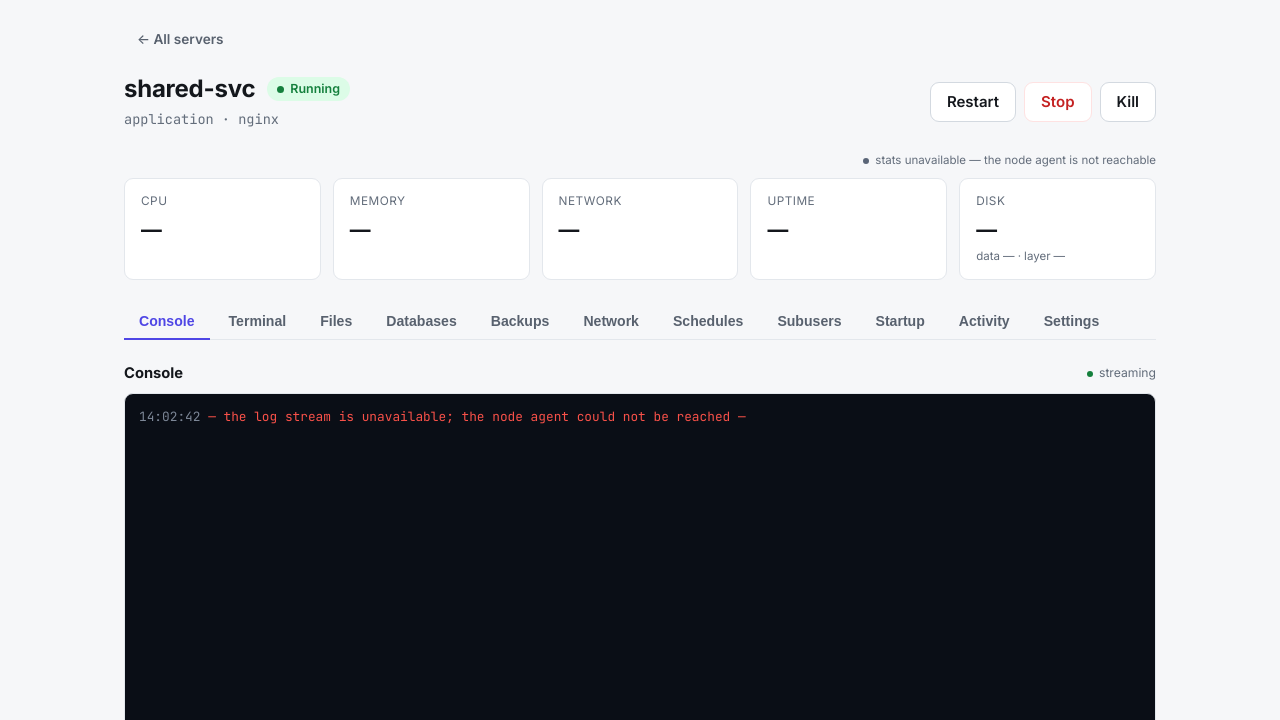
Test: ServerDetail Network tab › lists the server's own port mappings
Click the button "network": (611,322) [568, 304, 654, 340]
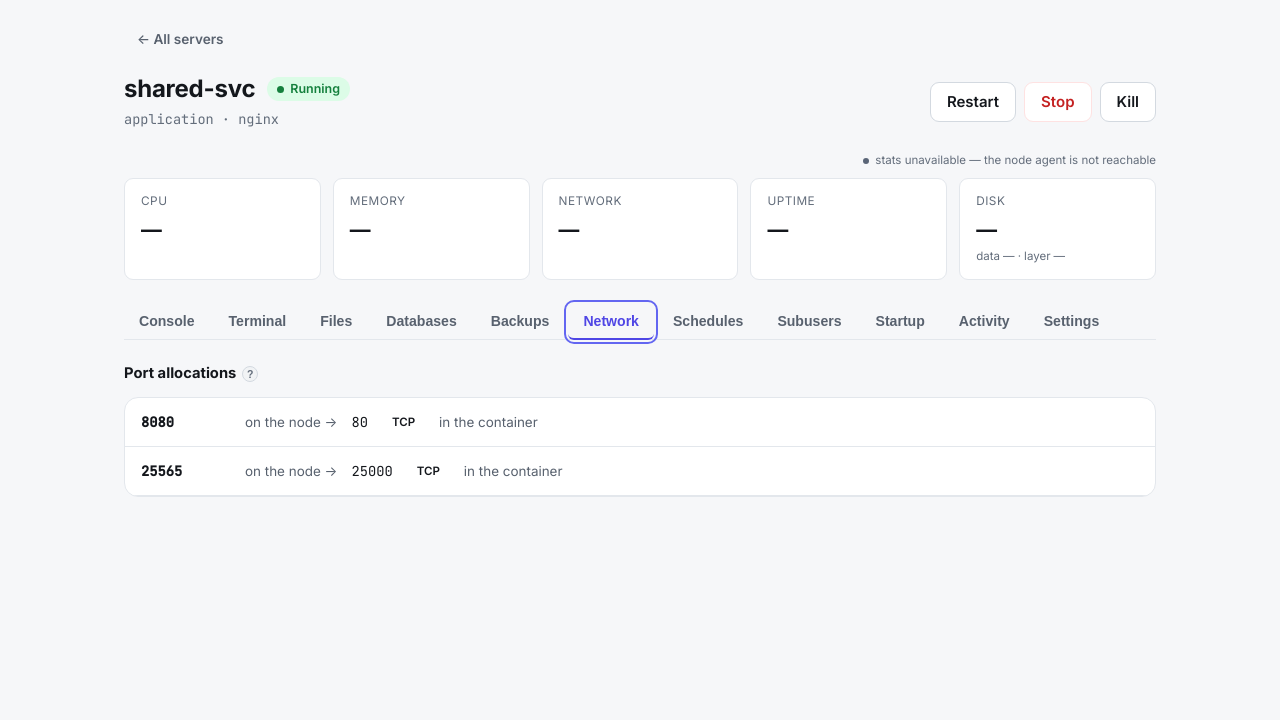
Check: the text "25565" is shown, box [141, 462, 182, 480]
Check: the text "25000" is shown, box [351, 461, 393, 482]
Check: the text "8080" is shown, box [141, 412, 174, 430]
